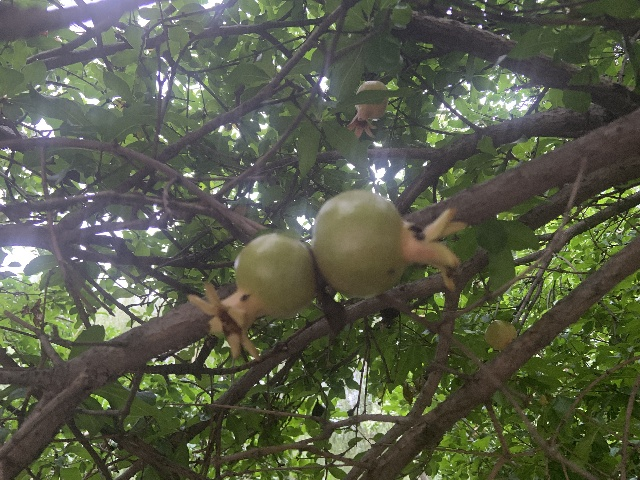mid-growth: (187, 232, 318, 361), (312, 190, 467, 297), (346, 78, 388, 139), (484, 319, 517, 350)
